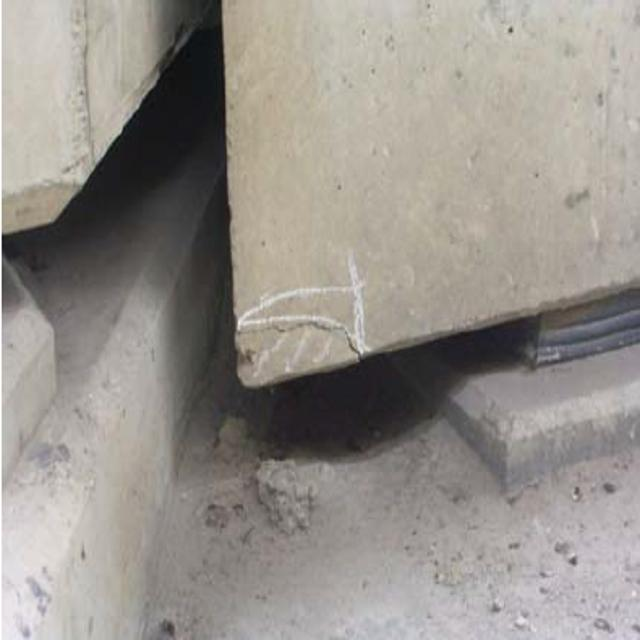crack: (225, 296, 372, 368)
